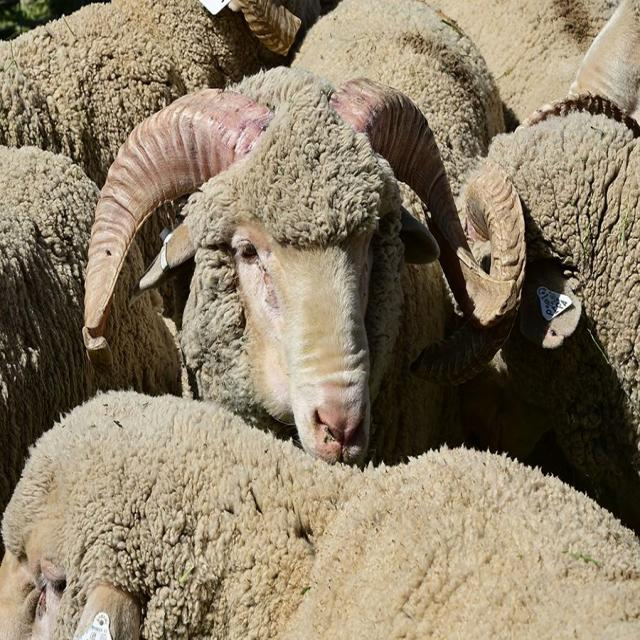sheep: (85, 66, 513, 461), (1, 392, 640, 639)
